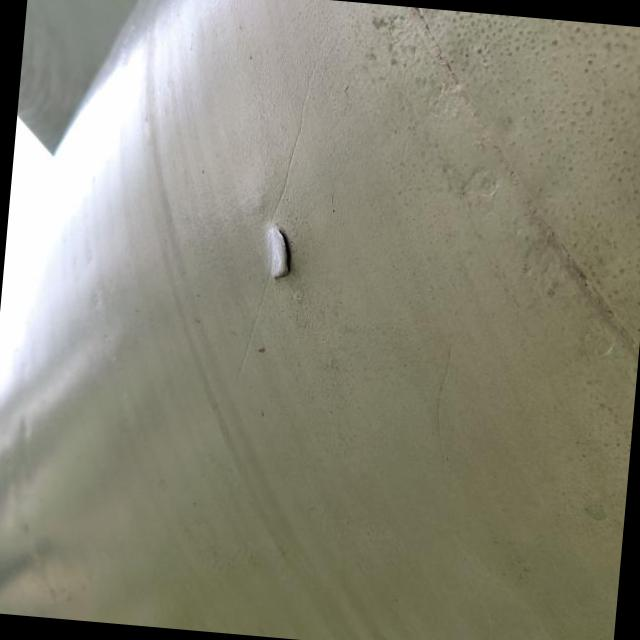Crack: (265, 221, 292, 279)
